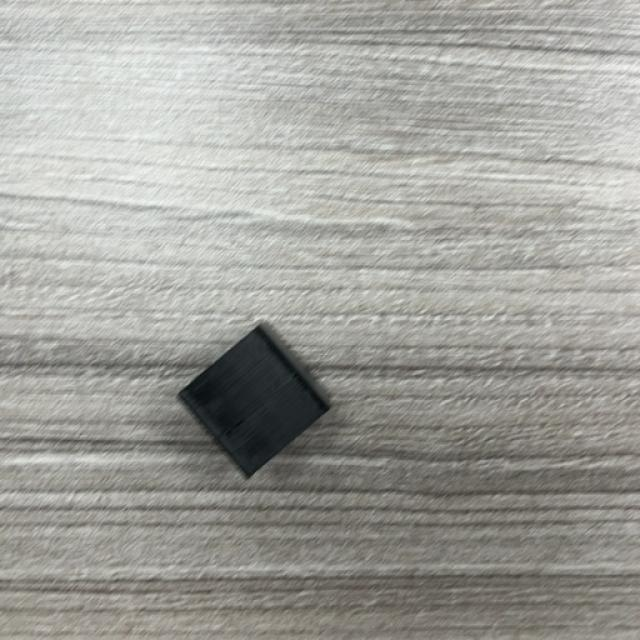Negro: (178, 322, 331, 480)
